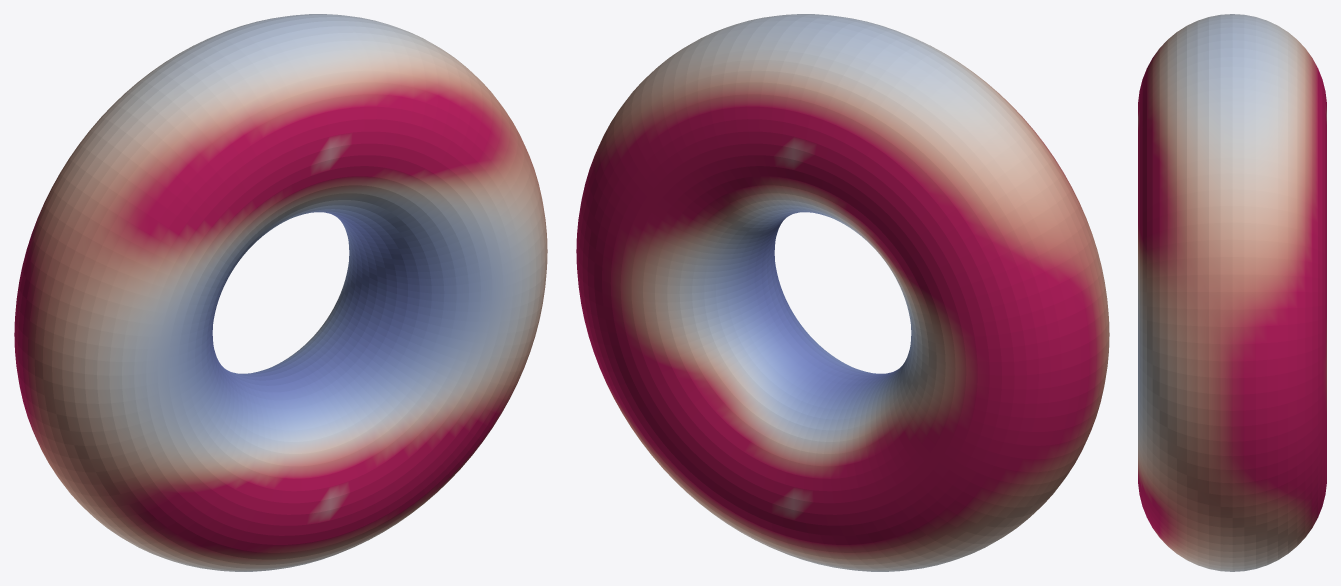
The picture shows the model from 3 angles, left to right: view 1: azimuth 30°, elevation 25°; view 2: azimuth 150°, elevation 25°; view 3: azimuth 270°, elevation 25°; orthographic projection. The views are drawn at different scales.
Visible parts, largest first — view 1: world; view 2: world; view 3: world.
Boxes of the visible parts, <box> form: world: <box>14,14,547,571</box>; world: <box>576,14,1109,571</box>; world: <box>1138,14,1326,571</box>.
Bounding box in the file's own units: 23.2 × 23.2 × 7.85.
